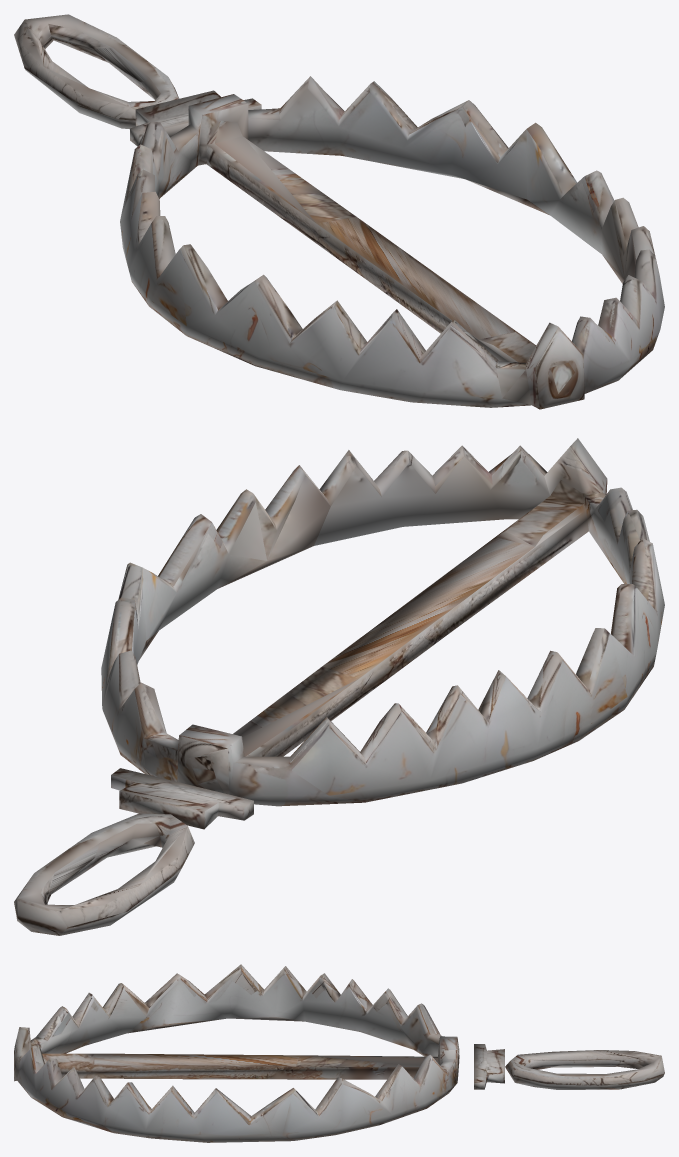
The model's file is 钢制捕兽夹.fbx.
3 renders of one model, top to bottom at view 1: azimuth 30°, elevation 25°; view 2: azimuth 150°, elevation 25°; view 3: azimuth 270°, elevation 25°, orthographic. The views are drawn at different scales.
Parts seen in each view (by area): view 1: texture_pbr_v128; view 2: texture_pbr_v128; view 3: texture_pbr_v128.
Part boxes in pixels (x1,y1,x2,y2): texture_pbr_v128: (14,14,664,409); texture_pbr_v128: (14,438,664,935); texture_pbr_v128: (14,964,664,1142).
Bounding box in the file's own units: 56.2 × 11.3 × 119.
Materials: 1 (1 with a texture image).
